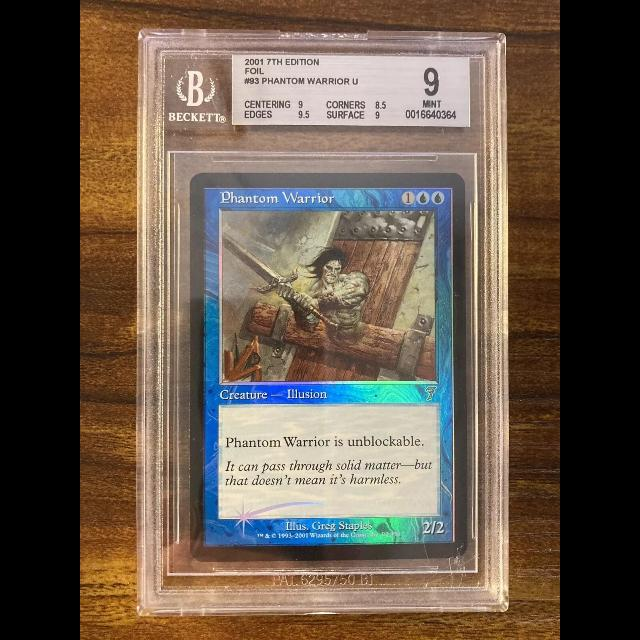bgs_label: (231, 55, 471, 128)
bgs_slab: (137, 27, 509, 617)
card: (189, 171, 468, 563)
